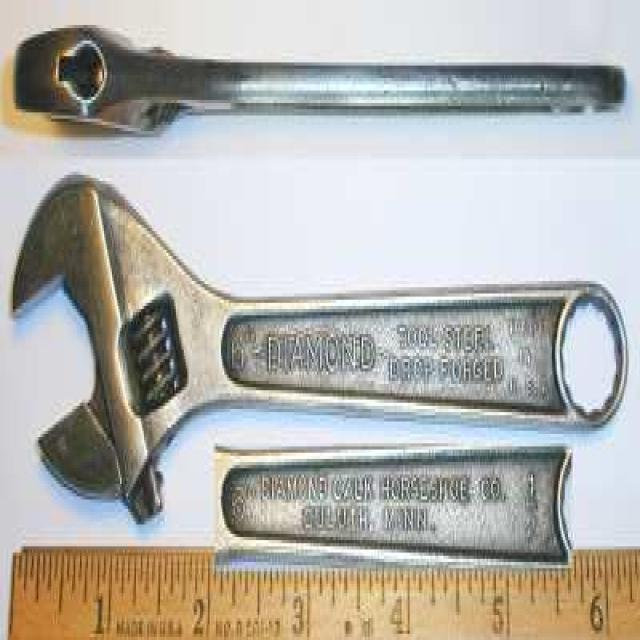wrench: (8, 155, 640, 526)
